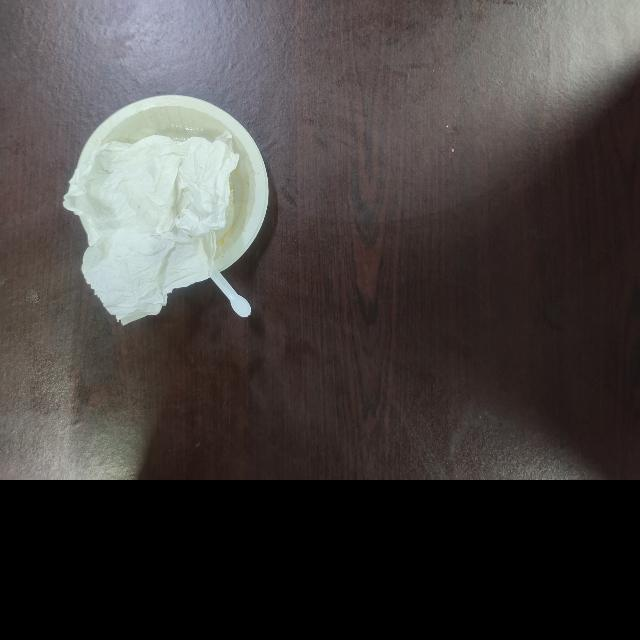kitchen paper: (77, 101, 275, 276), (74, 135, 242, 312)
